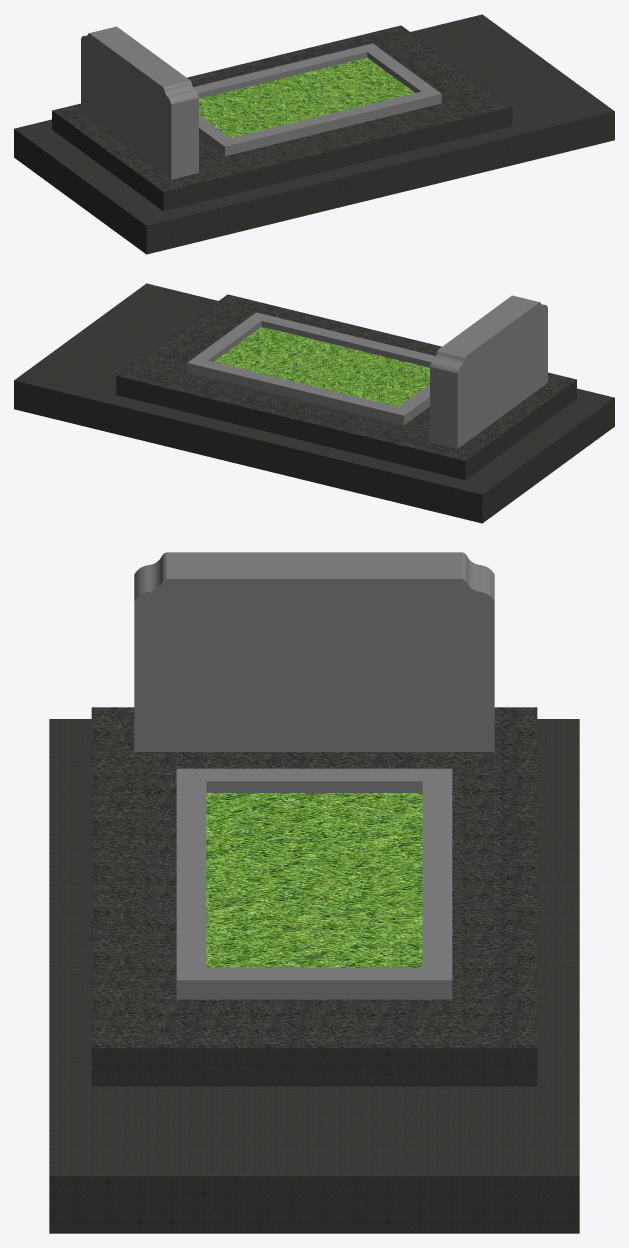
The model's file is product6.glb.
3 views of the same model, one above another, from view 1: azimuth 30°, elevation 25°; view 2: azimuth 150°, elevation 25°; view 3: azimuth 270°, elevation 25° (orthographic). The views are drawn at different scales.
Parts seen in each view (by area): view 1: Component#1, Component#15, Component#14; view 2: Component#1, Component#15, Component#14; view 3: Component#1, Component#14, Component#15.
Part boxes in pixels (left/top/right/bottom): Component#1: left=14, top=14, right=614, bottom=254; Component#15: left=193, top=43, right=441, bottom=156; Component#14: left=81, top=26, right=198, bottom=179; Component#1: left=14, top=283, right=614, bottom=523; Component#15: left=187, top=312, right=435, bottom=425; Component#14: left=430, top=295, right=547, bottom=448; Component#1: left=49, top=707, right=579, bottom=1233; Component#14: left=134, top=552, right=494, bottom=751; Component#15: left=176, top=768, right=452, bottom=999.
Size of what is drawn, in the model's own units: 2.55 by 0.7 by 1.25.
3 materials, 2 textured.
